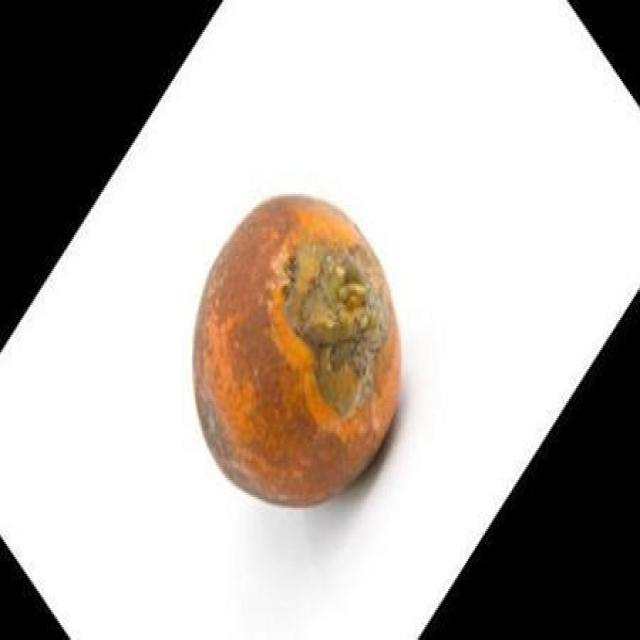good: (191, 194, 404, 512)
